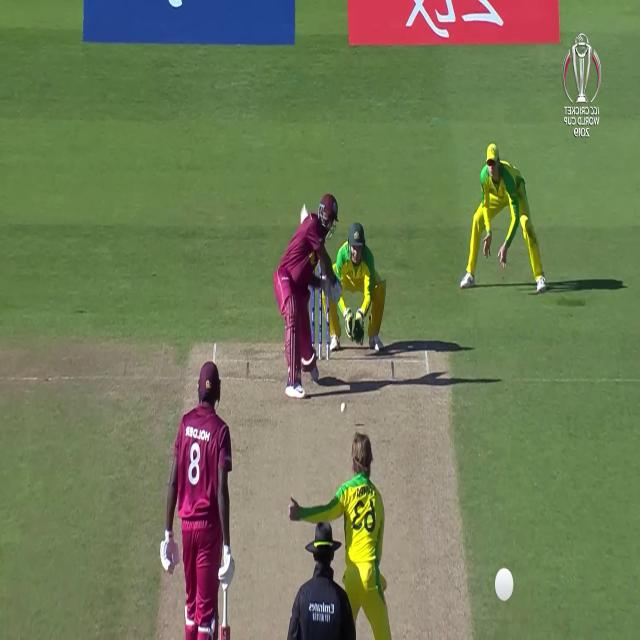ball: (337, 396, 349, 418)
